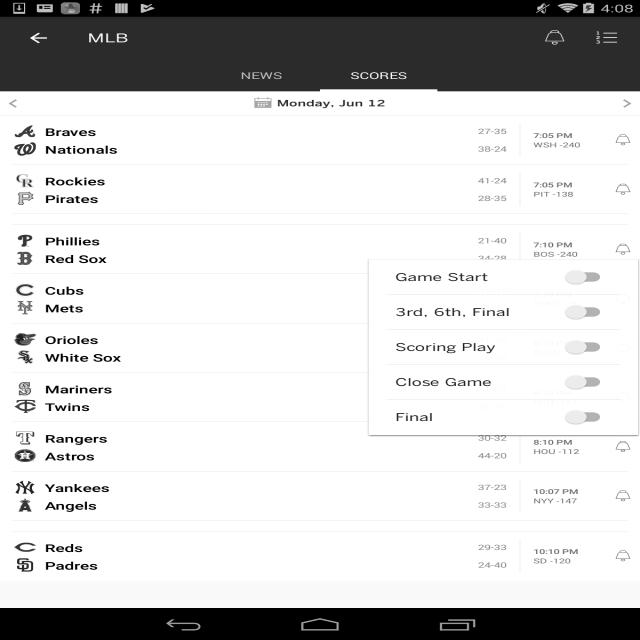ImageButton: (9, 17, 68, 59)
ImageView: (0, 92, 30, 115), (610, 92, 640, 115), (13, 141, 36, 156), (13, 173, 36, 188), (13, 233, 36, 248), (13, 282, 36, 297), (13, 300, 36, 315), (13, 349, 36, 364), (13, 381, 36, 396), (13, 430, 36, 445), (13, 448, 36, 463), (13, 497, 36, 512), (13, 557, 36, 572), (13, 124, 36, 138), (13, 191, 36, 205), (13, 251, 36, 265), (13, 332, 36, 346), (13, 399, 36, 413), (13, 480, 36, 494), (13, 540, 36, 554)
TextView: (85, 17, 128, 59), (276, 98, 386, 109), (45, 350, 121, 365), (45, 142, 118, 157), (45, 431, 108, 446), (45, 382, 112, 396), (45, 481, 110, 495), (44, 174, 106, 188), (44, 252, 106, 266), (44, 498, 98, 513), (45, 558, 98, 573), (44, 192, 99, 206), (45, 234, 100, 248), (44, 333, 99, 347), (350, 69, 407, 82), (45, 125, 97, 139), (45, 449, 95, 463), (44, 400, 90, 414), (45, 283, 84, 298), (45, 301, 84, 315), (241, 69, 282, 82), (45, 541, 83, 555), (533, 249, 578, 259), (533, 397, 577, 407), (534, 140, 580, 149), (534, 299, 580, 308), (534, 447, 580, 456), (533, 487, 579, 496), (533, 547, 579, 556), (534, 189, 574, 199), (533, 289, 573, 299), (533, 437, 573, 447), (533, 496, 577, 505), (469, 126, 507, 136), (469, 144, 507, 154), (469, 176, 507, 186), (469, 193, 507, 203), (469, 236, 507, 246), (469, 253, 507, 263), (469, 284, 507, 294), (469, 302, 507, 312), (469, 334, 507, 344), (469, 352, 507, 362), (469, 384, 507, 394), (469, 401, 507, 411), (469, 432, 507, 442), (469, 450, 507, 460), (469, 482, 507, 492), (469, 500, 507, 510), (469, 542, 507, 552), (469, 560, 507, 570), (543, 30, 566, 46), (533, 131, 573, 140), (533, 180, 573, 189), (533, 240, 573, 249), (533, 339, 573, 348), (533, 388, 573, 397), (595, 30, 617, 46), (533, 556, 571, 565), (254, 97, 272, 110), (534, 348, 560, 357), (614, 134, 632, 146), (614, 342, 632, 354), (614, 490, 632, 502), (614, 550, 632, 562), (614, 184, 632, 195), (614, 244, 632, 255), (614, 293, 632, 304), (614, 392, 632, 403), (614, 441, 632, 452)
